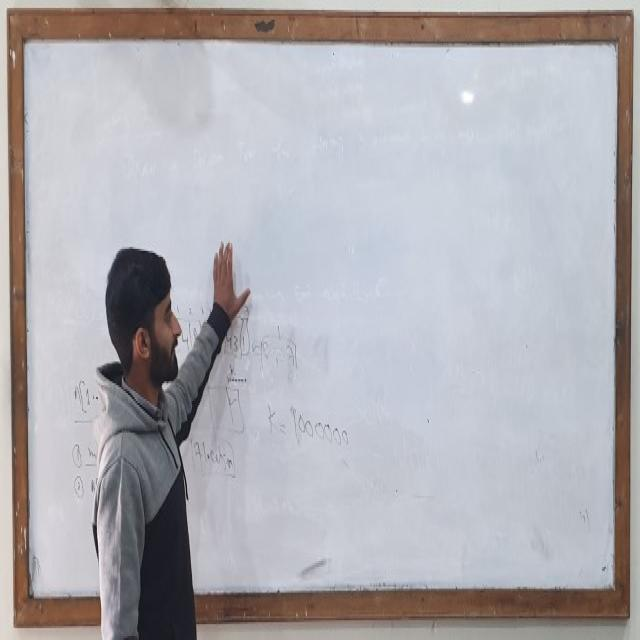Instructor: (84, 234, 207, 640)
White-board: (13, 23, 626, 610)
